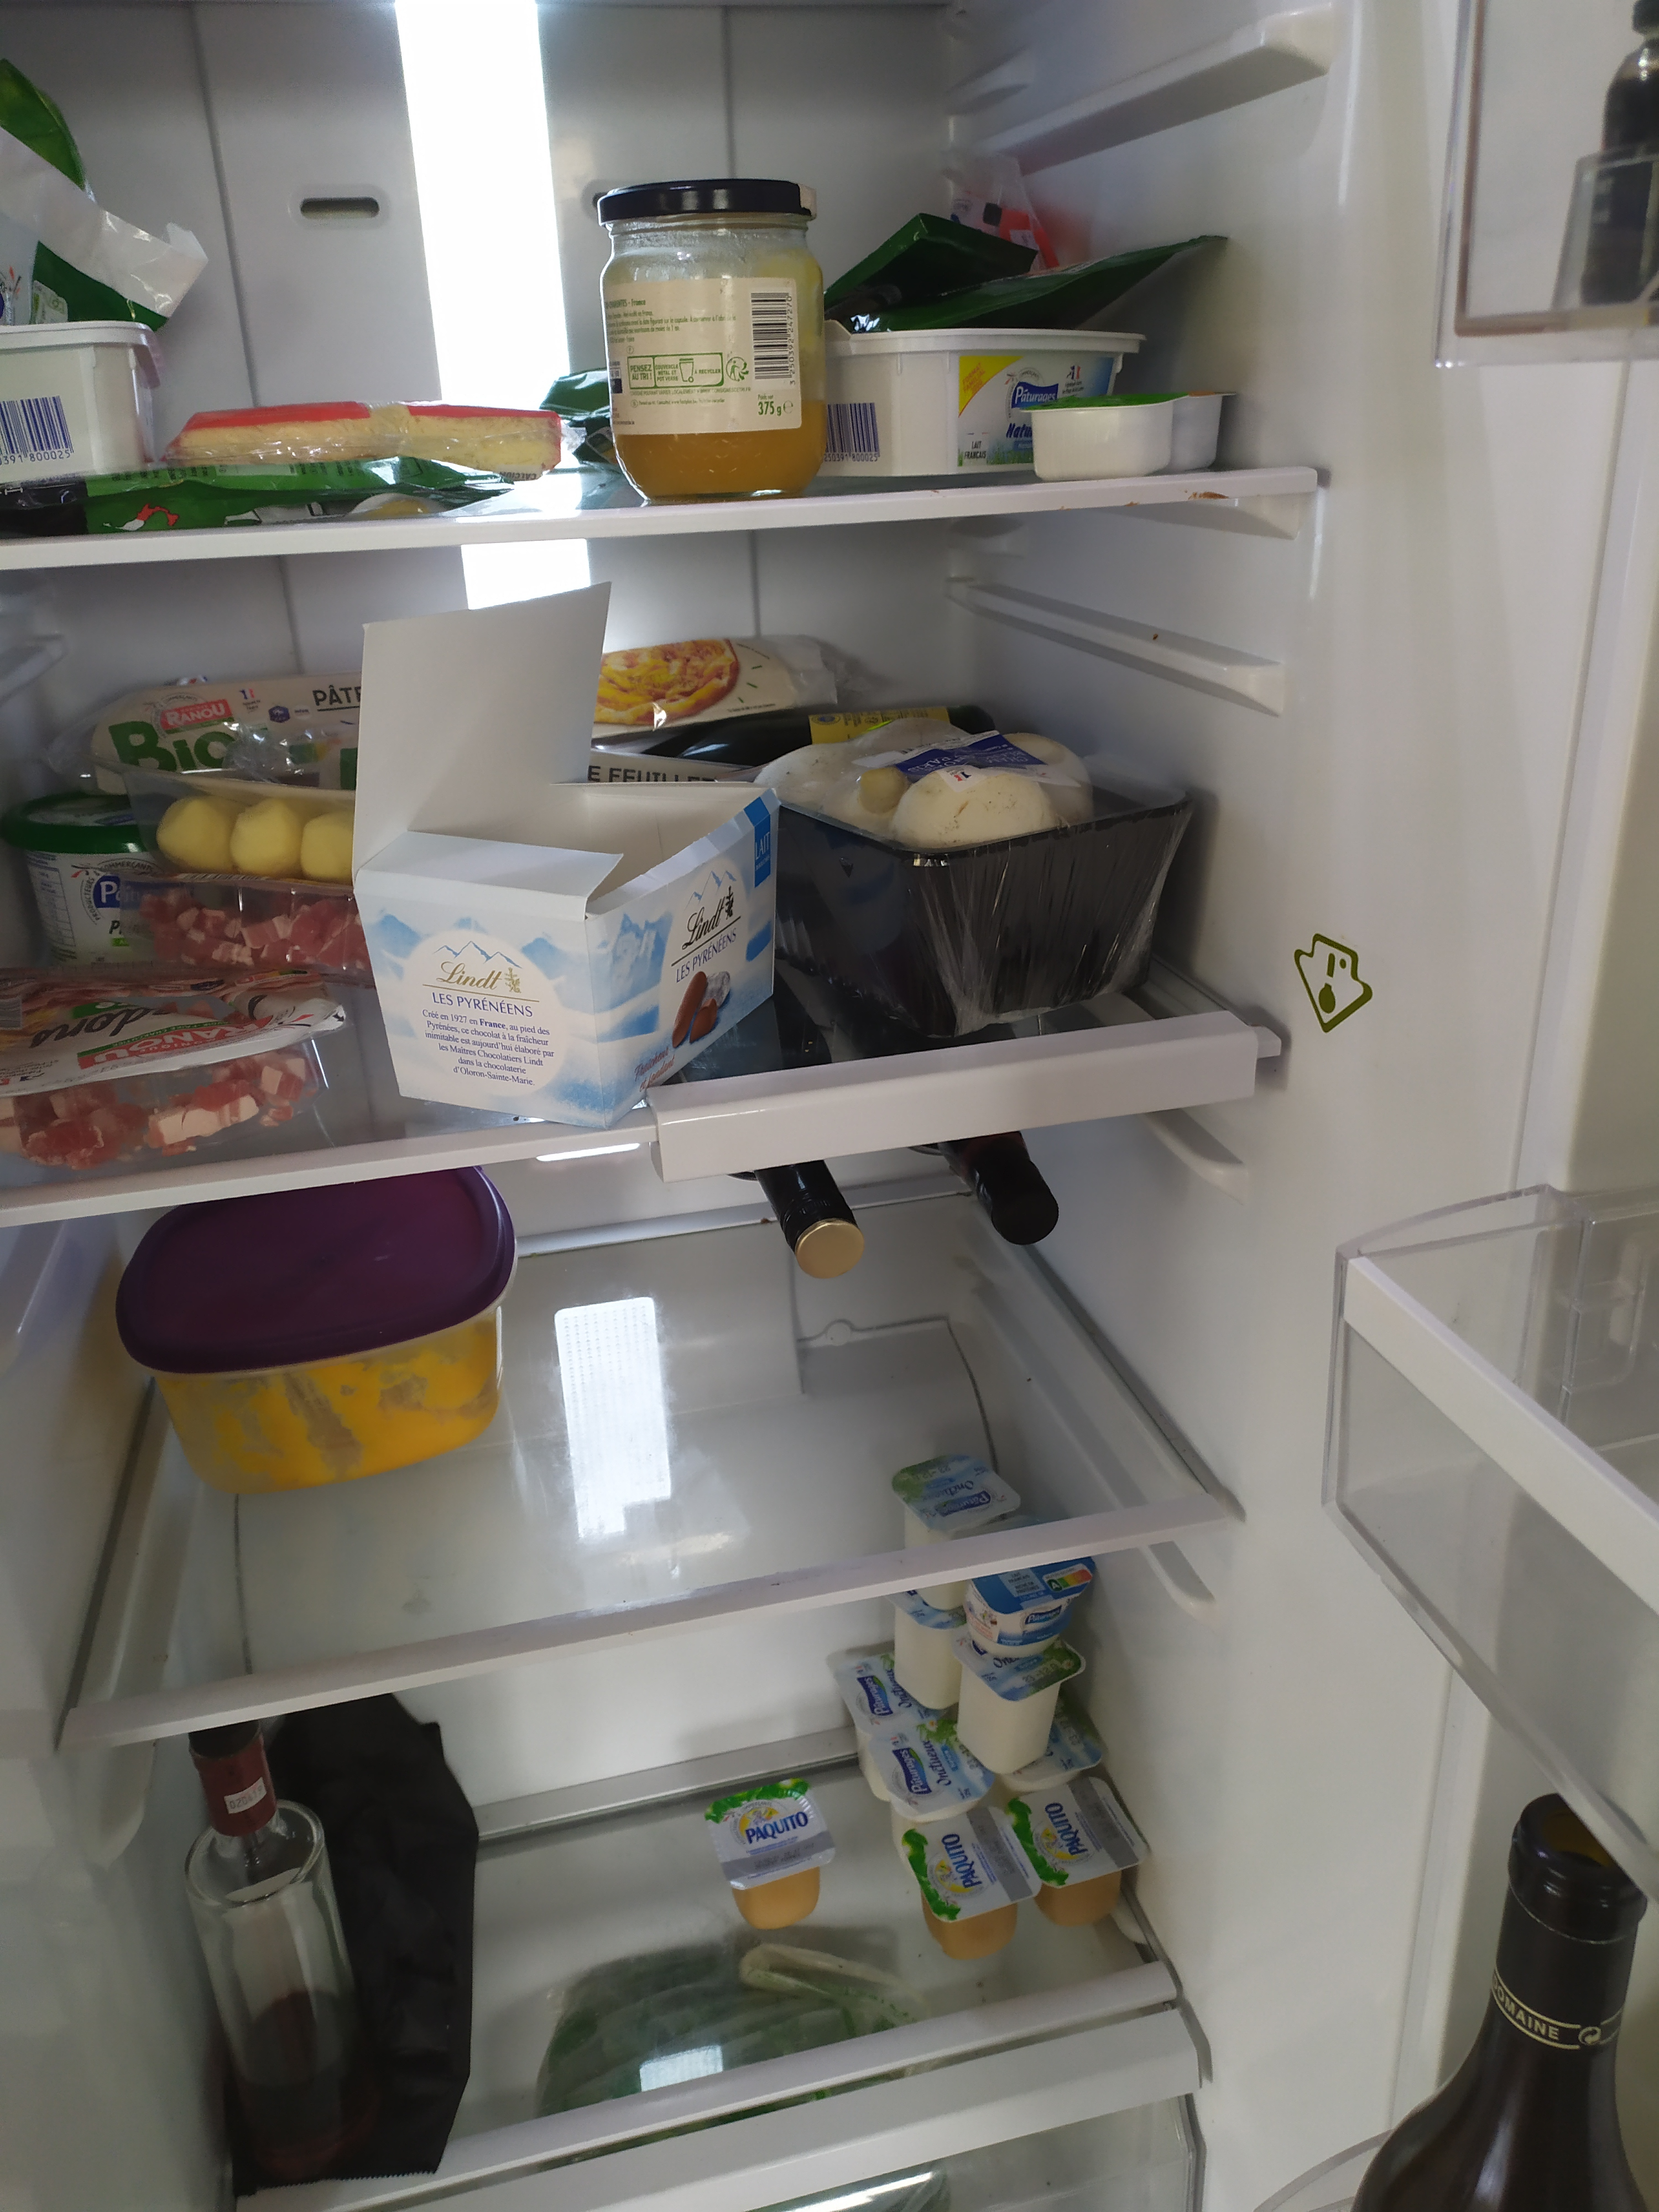bottle: (1378, 1796, 1659, 2212), (179, 1726, 383, 2172), (915, 1120, 1065, 1251), (727, 1137, 868, 1264)
compote: (901, 1811, 1033, 1965), (1018, 1764, 1140, 1925), (704, 1785, 824, 1926)
mushroom: (732, 716, 1213, 1022)
yoghurt: (894, 1454, 1026, 1615), (835, 1632, 939, 1791), (955, 1627, 1072, 1768), (965, 1526, 1094, 1651), (985, 1707, 1107, 1815), (884, 1721, 990, 1844), (897, 1592, 974, 1717)
